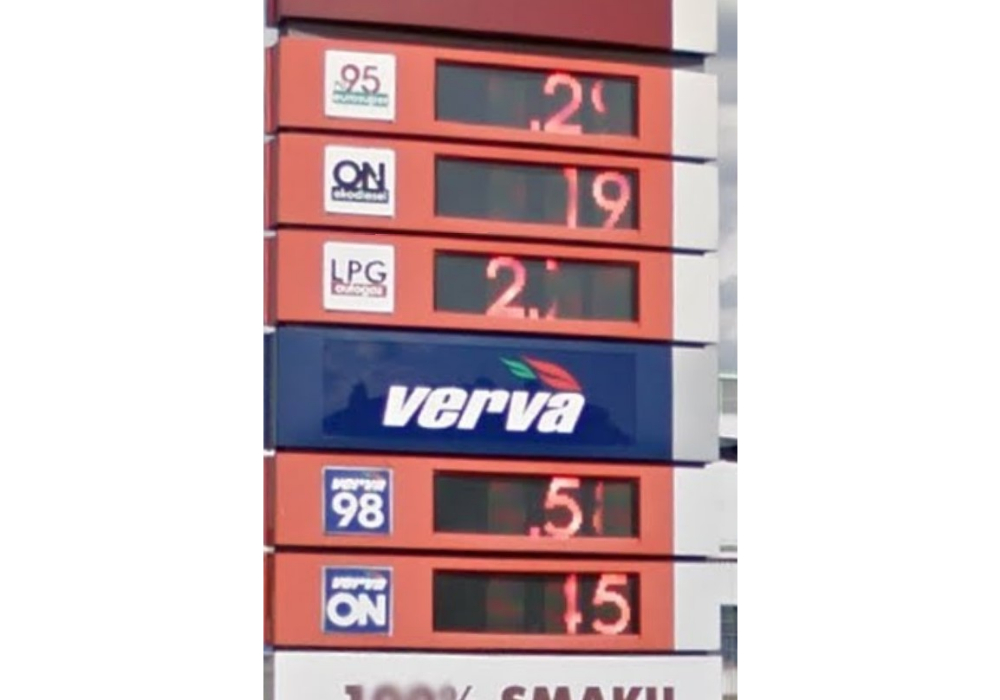LPG: (321, 239, 393, 312)
ON: (323, 141, 397, 220), (322, 563, 393, 637)
PB95: (321, 48, 395, 123)
PB98: (321, 465, 393, 534)
